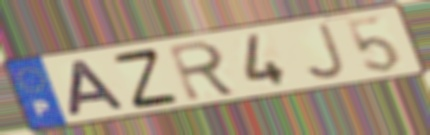4: (243, 31, 290, 89)
5: (342, 13, 403, 73)
A: (66, 58, 129, 119)
J: (301, 21, 349, 82)
R: (165, 38, 242, 103)
Z: (109, 46, 182, 111)
